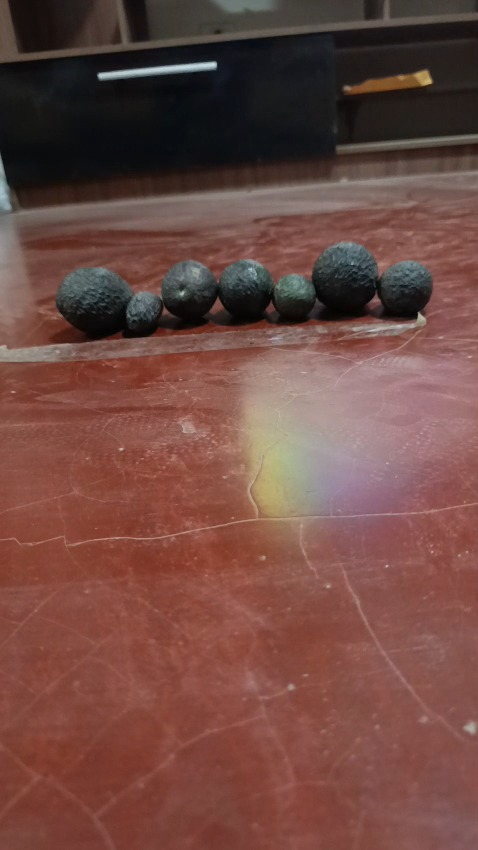Primera: (55, 266, 132, 335), (312, 240, 379, 313)
Segunda: (161, 259, 217, 321), (218, 259, 274, 320), (377, 260, 432, 317)
Tercera: (273, 273, 316, 321), (125, 291, 162, 335)
